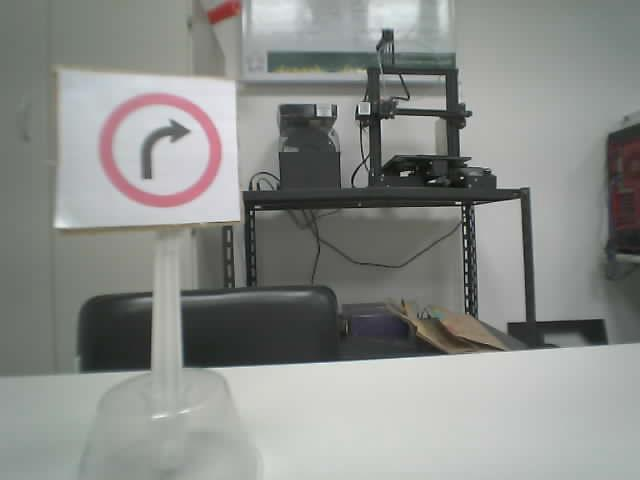R-25b_direita: (96, 90, 223, 208)
